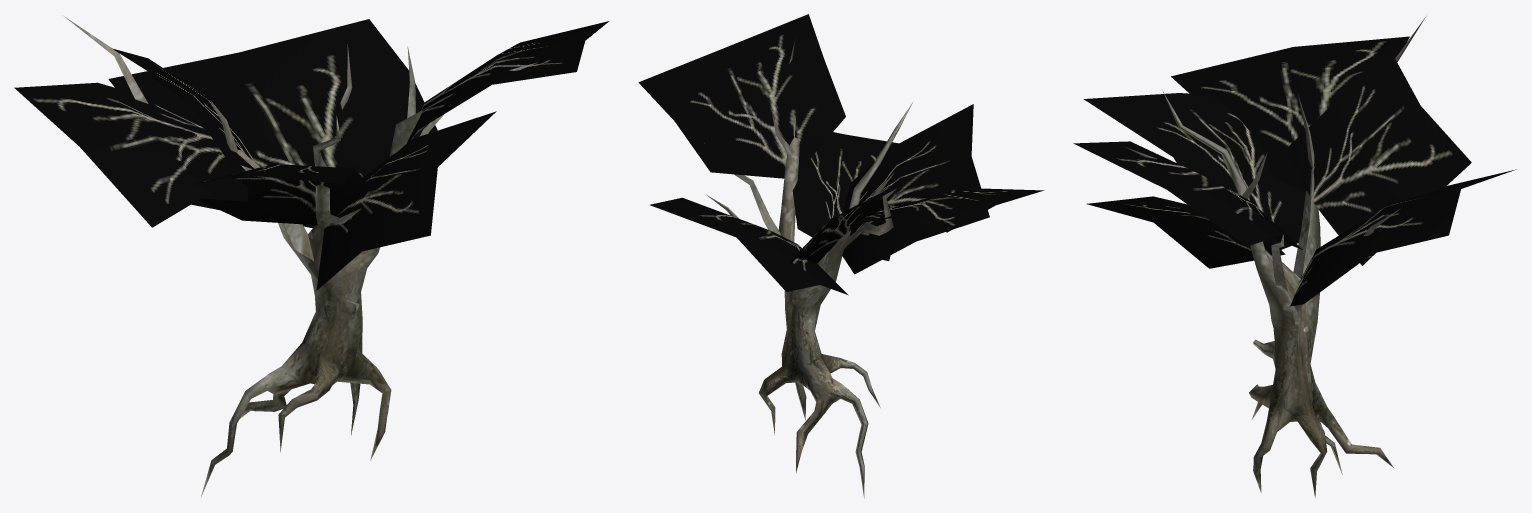
File: DN_lv2_kushu01.FBX
The picture shows the model from 3 angles, left to right: view 1: azimuth 30°, elevation 25°; view 2: azimuth 150°, elevation 25°; view 3: azimuth 270°, elevation 25°; orthographic projection. The views are drawn at different scales.
Parts seen in each view (by area): view 1: DN_lv2_kushu01; view 2: DN_lv2_kushu01; view 3: DN_lv2_kushu01.
Part boxes in pixels (x1=…): DN_lv2_kushu01: x1=14, y1=15, x2=609, y2=496; DN_lv2_kushu01: x1=638, y1=14, x2=1044, y2=498; DN_lv2_kushu01: x1=1073, y1=17, x2=1516, y2=497.
Size of the model in its own units: 901 by 824 by 771.
